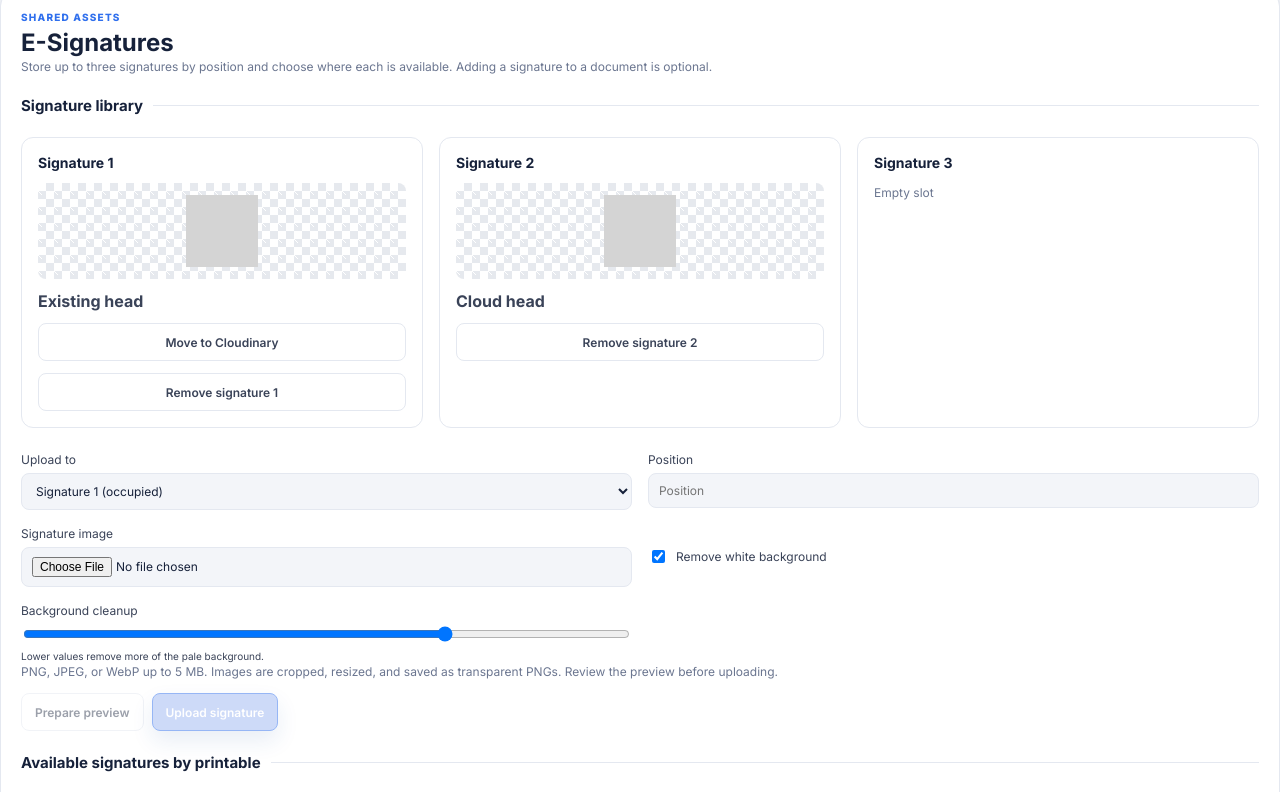
Test: Cloudinary signature administration › offers migration only for legacy signatures and keeps existing printable assignments
The image size is (1280, 792).
Expected: the number of elements with class "signature-library-slot" is 3, [21,137,423,428]; [439,137,841,428]; [857,137,1259,428]
Click the button "Move to Cloudinary": x=222, y=342 [38,323,406,361]
(page scrolled)
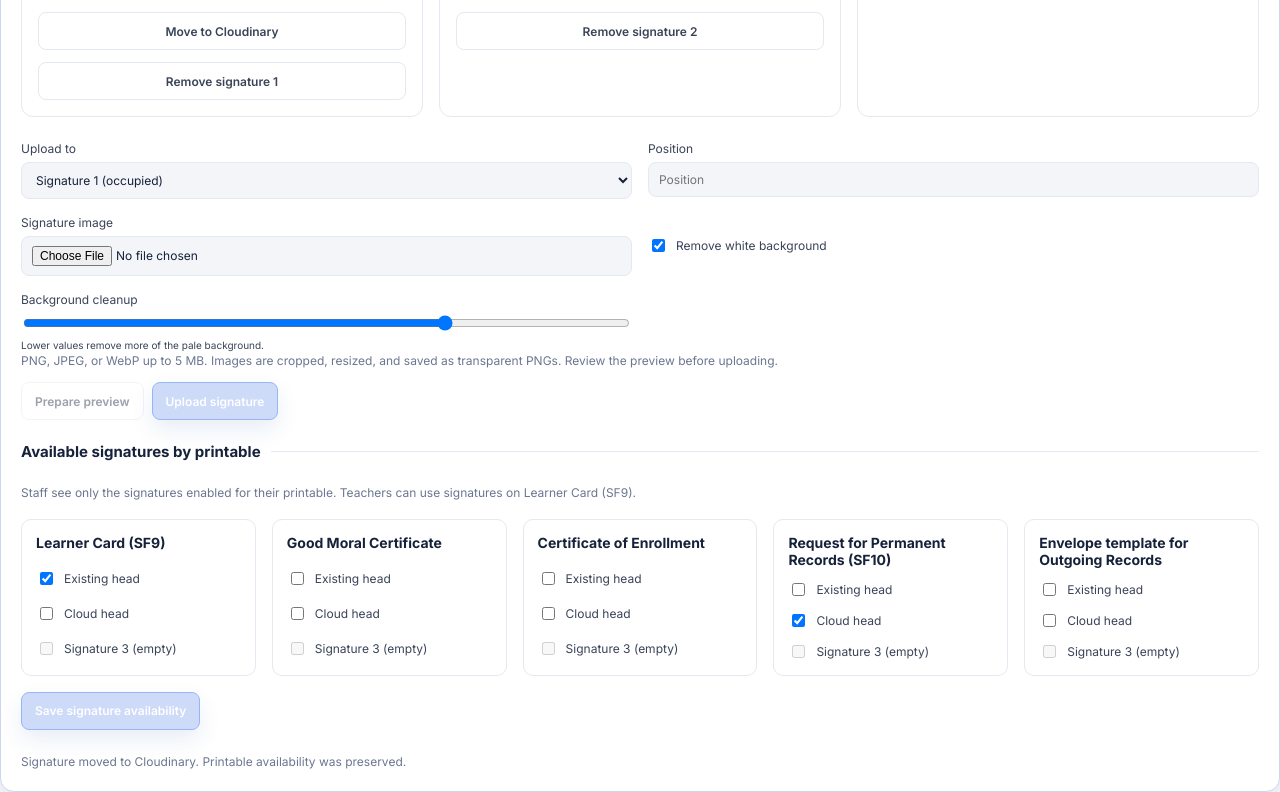
Expected: the 1st checkbox labelled "Existing head" is checked, [40,572,53,585]
Expected: the text "Signature moved to Cloudinary" is shown, [21,754,406,769]
